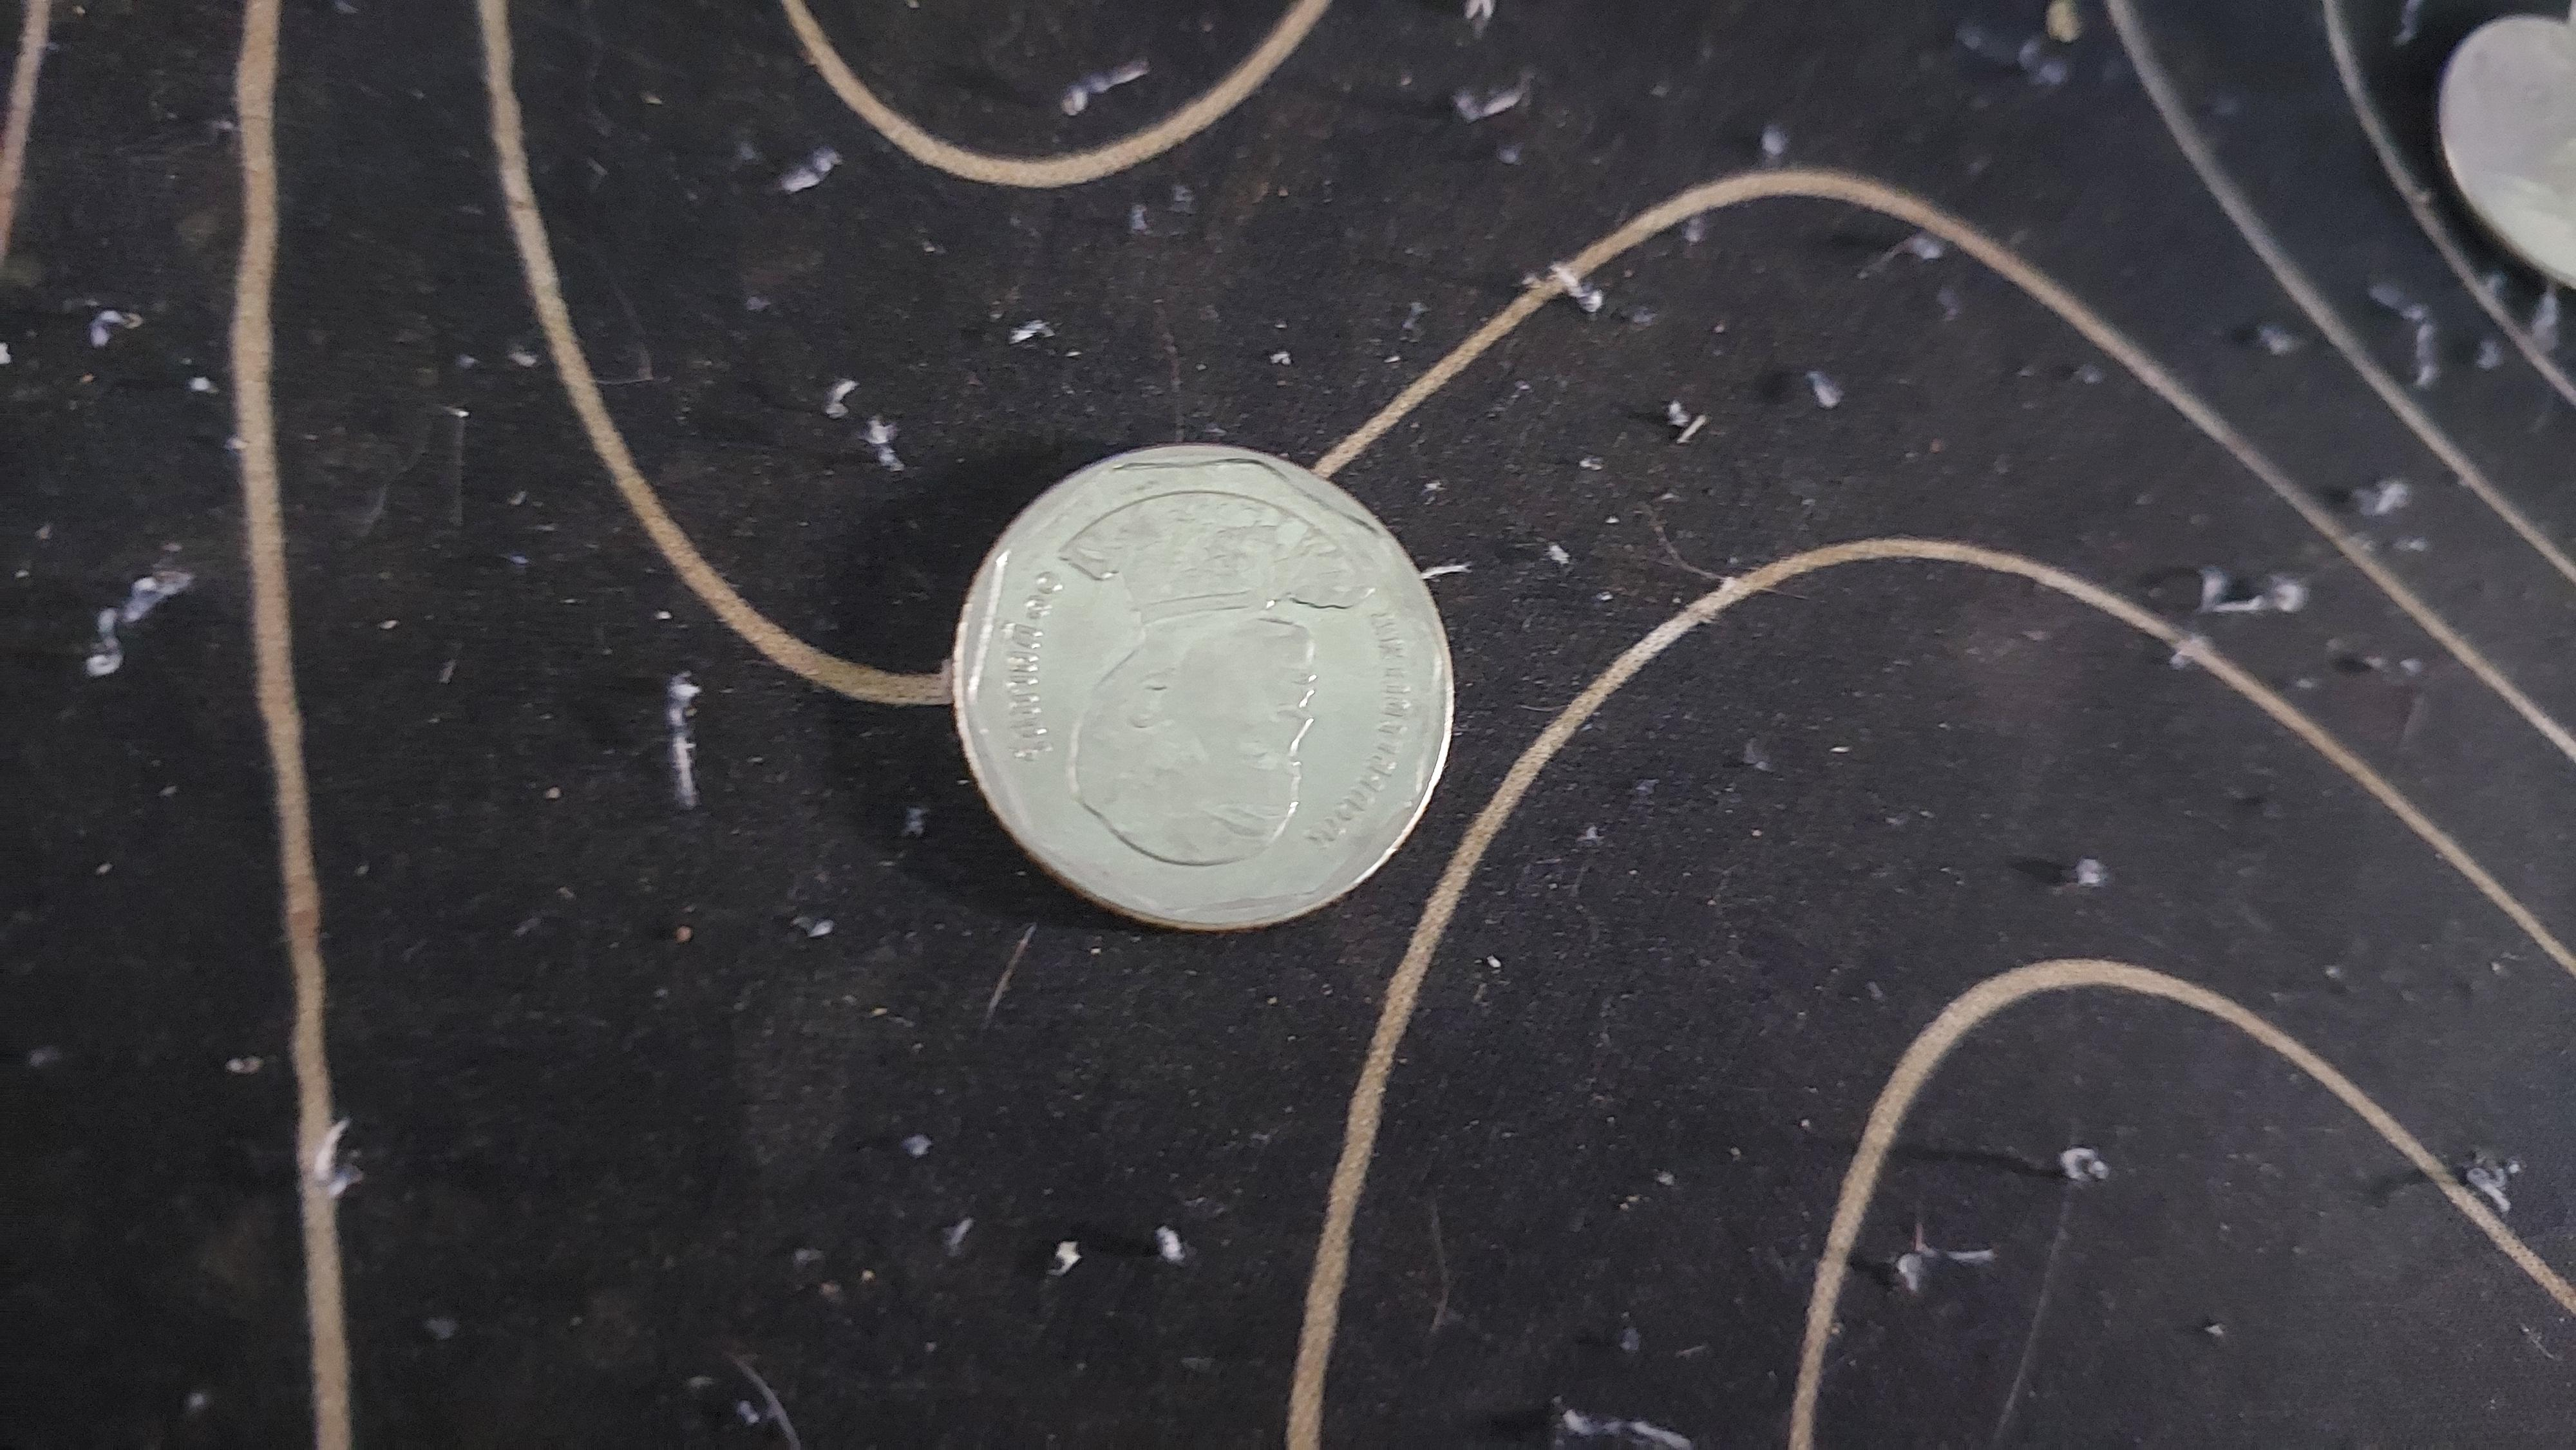5baht: (869, 410, 1578, 966)
